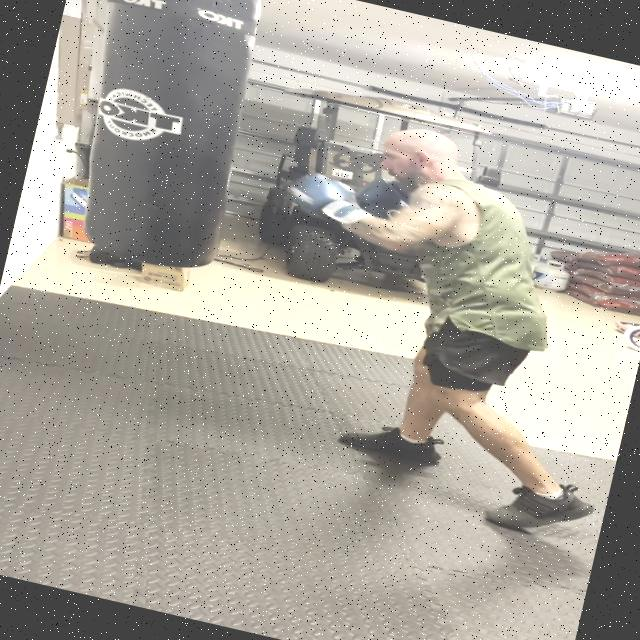punch: (270, 80, 570, 308)
